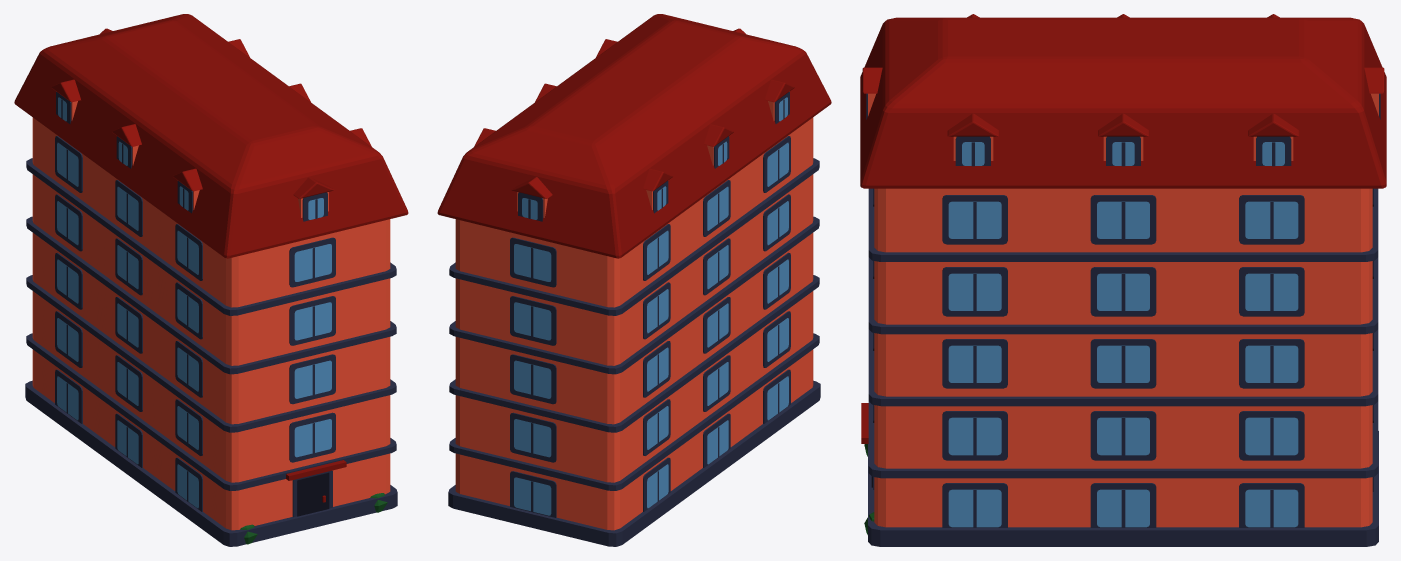
File: house-1x2-5f-mansard-c.glb
The picture shows the model from 3 angles, left to right: view 1: azimuth 30°, elevation 25°; view 2: azimuth 150°, elevation 25°; view 3: azimuth 270°, elevation 25°; orthographic projection. The views are drawn at different scales.
Parts seen in each view (by area): view 1: house-1x2-5f-mansard-c; view 2: house-1x2-5f-mansard-c; view 3: house-1x2-5f-mansard-c.
Part boxes in pixels (x1,y1,x2,y2): house-1x2-5f-mansard-c: (14, 14, 408, 546); house-1x2-5f-mansard-c: (437, 14, 831, 546); house-1x2-5f-mansard-c: (860, 14, 1386, 546).
Bounding box in the file's own units: 0.9876 × 1.9 × 1.99.
Materials: 1 (1 with a texture image).
